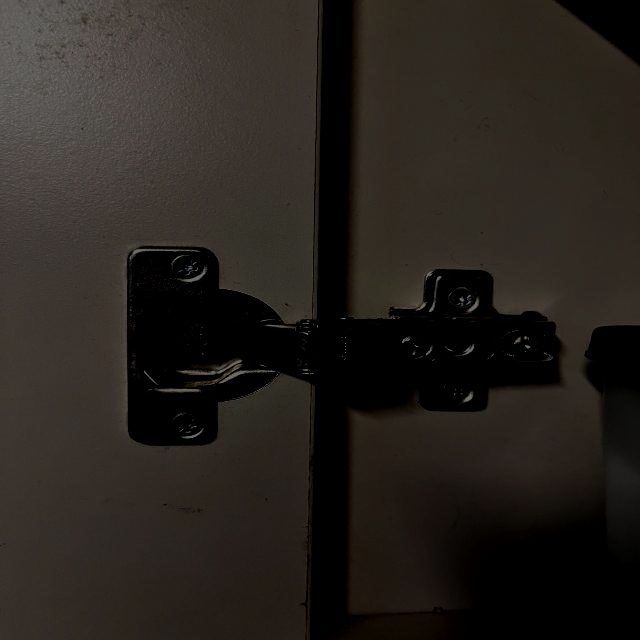pozidriv: (169, 253, 203, 279), (170, 412, 202, 436), (448, 288, 476, 308), (444, 379, 468, 399)
